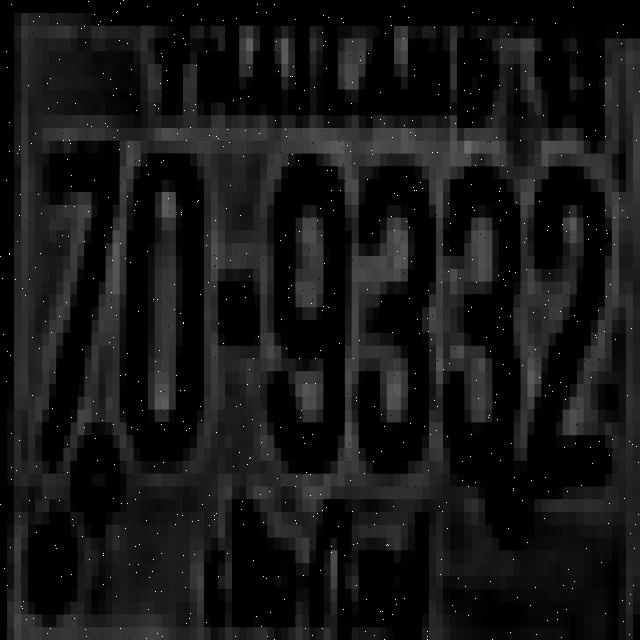0: (125, 148, 203, 456)
2: (527, 160, 605, 480)
3: (439, 154, 517, 486), (352, 154, 429, 460)
7: (42, 141, 112, 448)
9: (267, 154, 345, 460)
ChiangMai: (190, 473, 436, 640)
